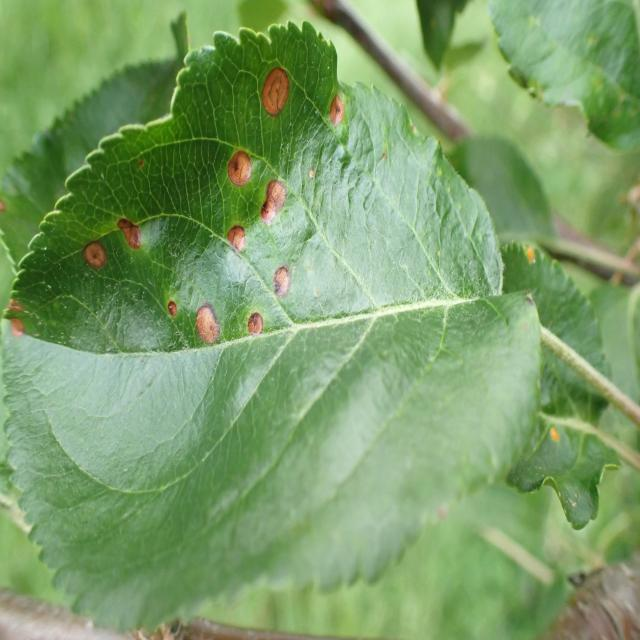Black Rot: (233, 303, 281, 363), (249, 59, 293, 123), (263, 254, 301, 322), (110, 204, 149, 270), (253, 170, 296, 229), (72, 214, 108, 282), (220, 132, 257, 191), (324, 80, 356, 146), (224, 218, 254, 276), (195, 300, 223, 362), (155, 283, 179, 323), (131, 156, 160, 182)
